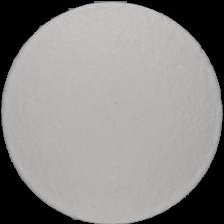52959-775: (0, 0, 224, 224)
